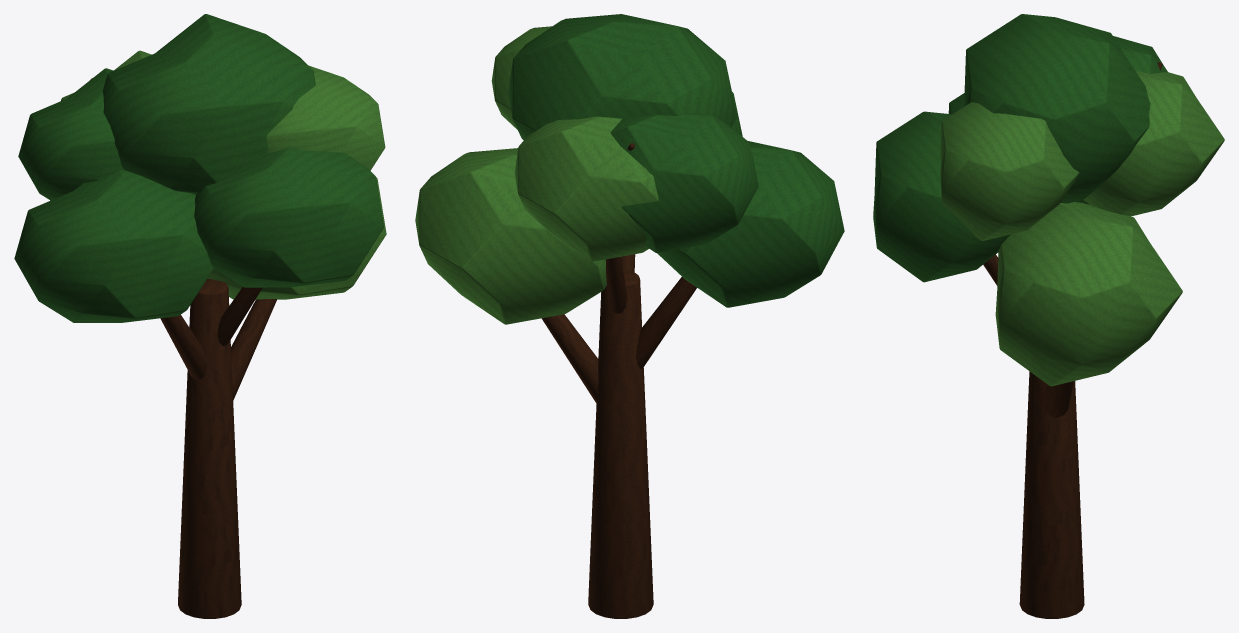
Rendered from prop_tree_01.glb.
3 renders of one model, left to right at view 1: azimuth 30°, elevation 25°; view 2: azimuth 150°, elevation 25°; view 3: azimuth 270°, elevation 25°, orthographic. The views are drawn at different scales.
Visible parts, largest first — view 1: LeafCluster_04, LeafCluster_00, LeafCluster_02, Trunk, LeafCluster_06, LeafCluster_05, LeafCluster_01, Branch_00, Branch_01, Branch_02; view 2: LeafCluster_04, LeafCluster_01, Trunk, LeafCluster_00, LeafCluster_03, LeafCluster_06, Branch_01, Branch_00, LeafCluster_05, Branch_03; view 3: LeafCluster_01, LeafCluster_04, LeafCluster_05, Trunk, LeafCluster_02, LeafCluster_03, LeafCluster_06, Branch_00.
Boxes of the visible parts, <box> form: LeafCluster_04: <box>102,14,315,194</box>; LeafCluster_00: <box>14,170,213,322</box>; LeafCluster_02: <box>194,147,383,287</box>; Trunk: <box>178,279,241,618</box>; LeafCluster_06: <box>18,68,124,200</box>; LeafCluster_05: <box>266,65,385,170</box>; LeafCluster_01: <box>207,177,386,299</box>; Branch_00: <box>231,299,277,399</box>; Branch_01: <box>160,315,207,379</box>; Branch_02: <box>217,287,262,345</box>; LeafCluster_04: <box>508,14,737,140</box>; LeafCluster_01: <box>415,148,621,324</box>; Trunk: <box>588,270,653,618</box>; LeafCluster_00: <box>657,141,844,307</box>; LeafCluster_03: <box>514,116,658,261</box>; LeafCluster_06: <box>610,113,758,253</box>; Branch_01: <box>636,277,696,368</box>; Branch_00: <box>541,314,598,403</box>; LeafCluster_05: <box>491,26,551,129</box>; Branch_03: <box>605,256,627,313</box>; LeafCluster_01: <box>995,202,1182,386</box>; LeafCluster_04: <box>964,14,1150,203</box>; LeafCluster_05: <box>940,102,1079,240</box>; Trunk: <box>1019,371,1084,618</box>; LeafCluster_02: <box>873,111,1010,282</box>; LeafCluster_03: <box>1083,70,1224,216</box>; LeafCluster_06: <box>1113,36,1167,73</box>; Branch_00: <box>1043,381,1073,417</box>.
Bounding box in the file's own units: 3.17 × 4.71 × 2.6.
Materials: 3 (3 with a texture image).
